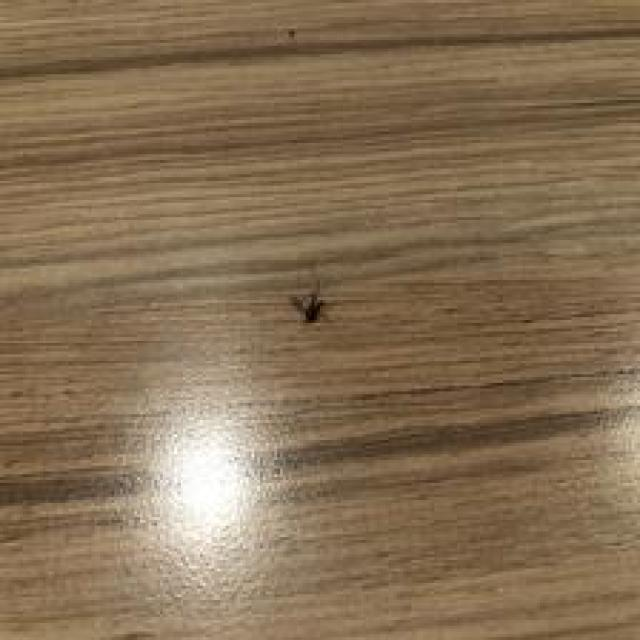Culex: (290, 291, 327, 323)
